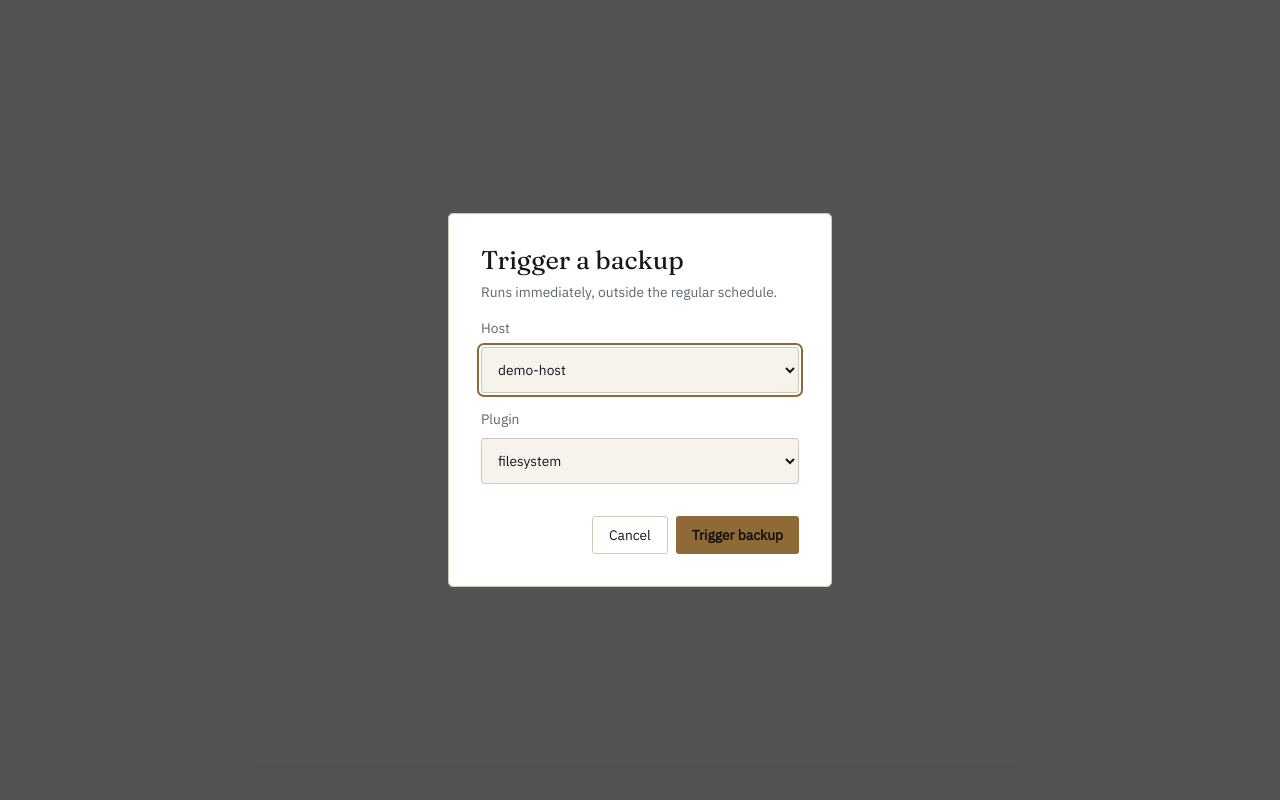
Test: TriggerBackupModal › shows a generic unreachable message for a network failure
Click the button "Trigger backup".
click(737, 535)  # box [676,516,799,554]
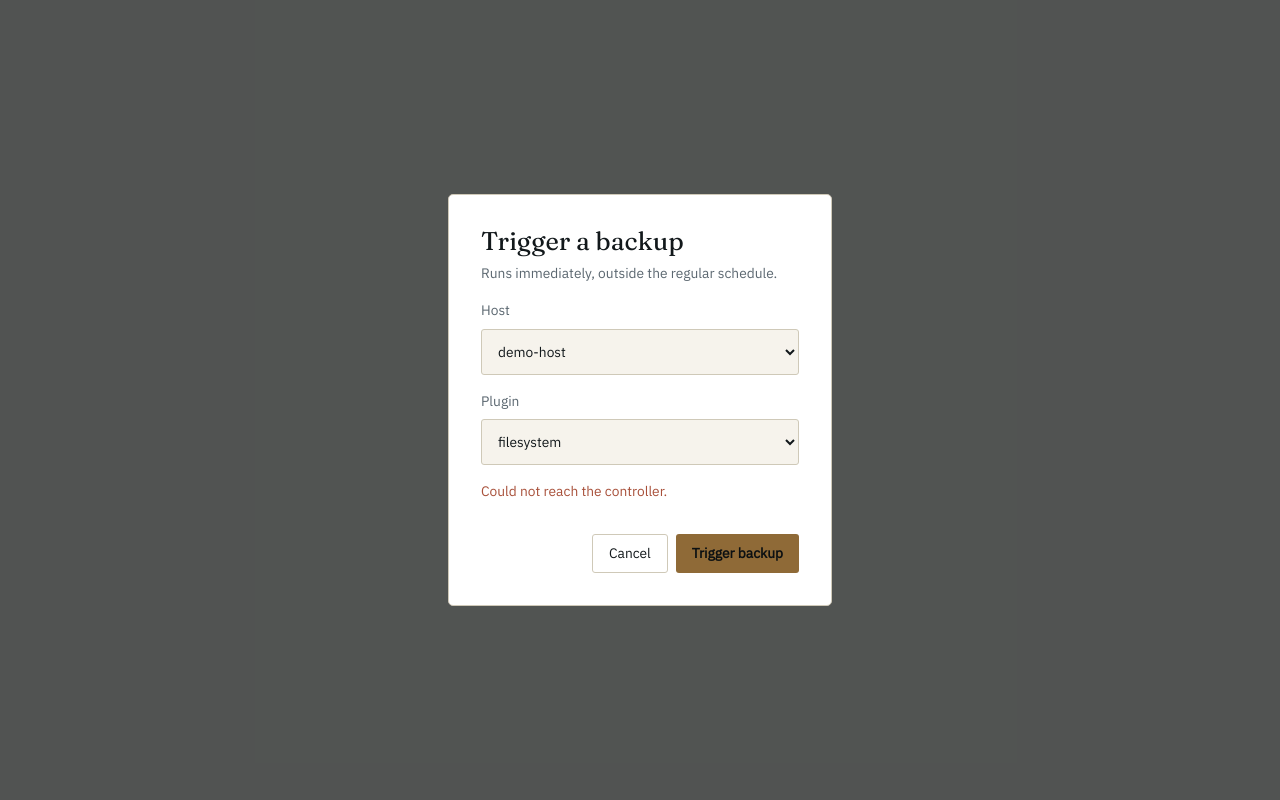
Now the message shows "Could not reach the controller", box [481,482,667,500]
